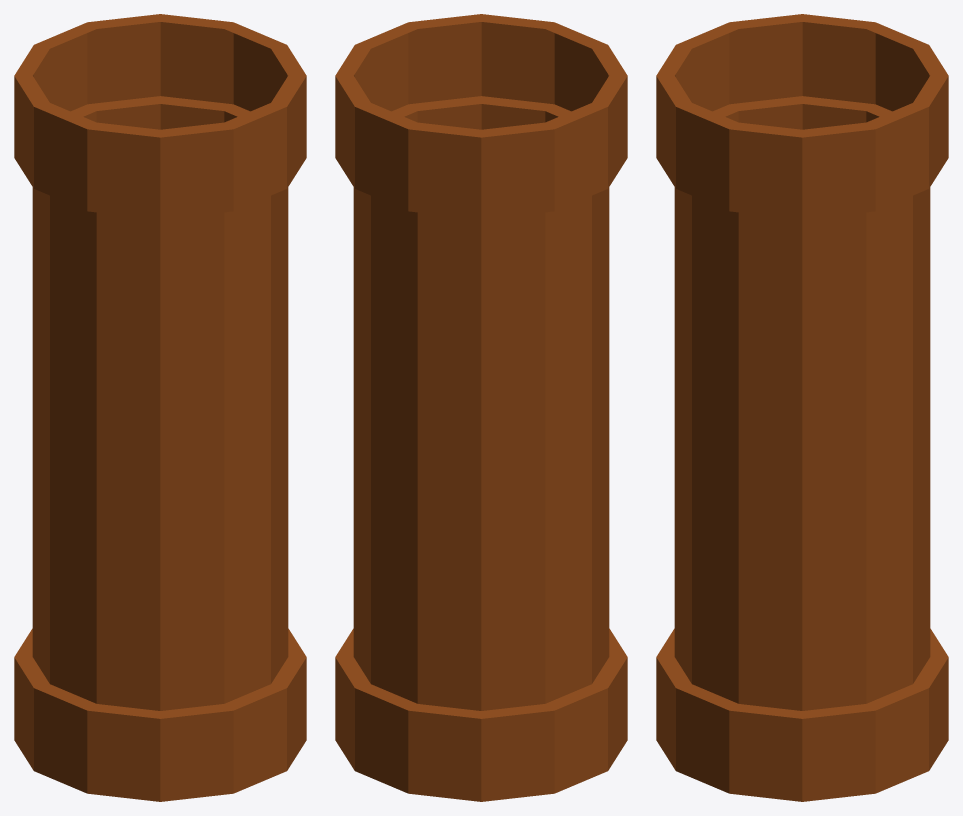
Rendered from pipe.fbx.
3 renders of one model, left to right at view 1: azimuth 30°, elevation 25°; view 2: azimuth 150°, elevation 25°; view 3: azimuth 270°, elevation 25°, orthographic.
Visible parts, largest first — view 1: Cube; view 2: Cube; view 3: Cube.
Boxes of the visible parts, x1=… form: Cube: x1=14, y1=14, x2=306, y2=801; Cube: x1=335, y1=14, x2=627, y2=801; Cube: x1=656, y1=14, x2=948, y2=801.
Bounding box in the file's own units: 1200 × 3008 × 1200.
